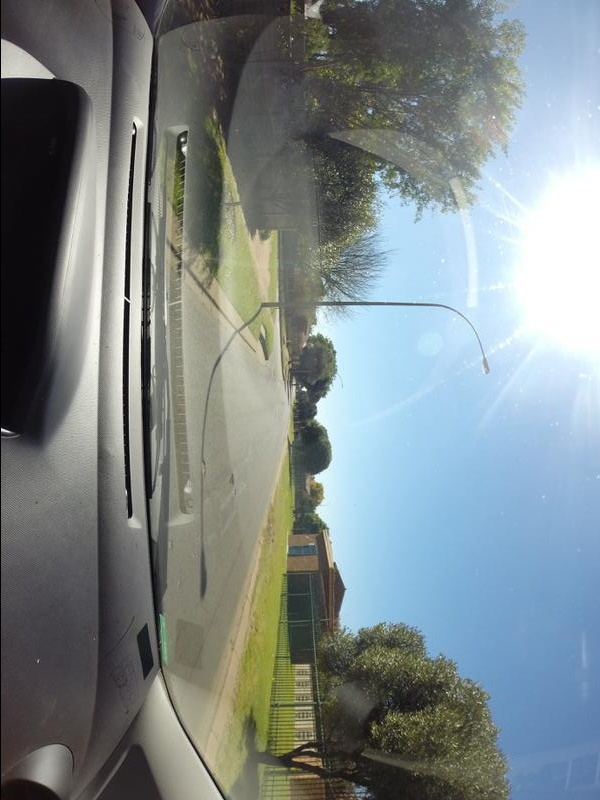pothole: (223, 475, 236, 492), (197, 458, 208, 478)
